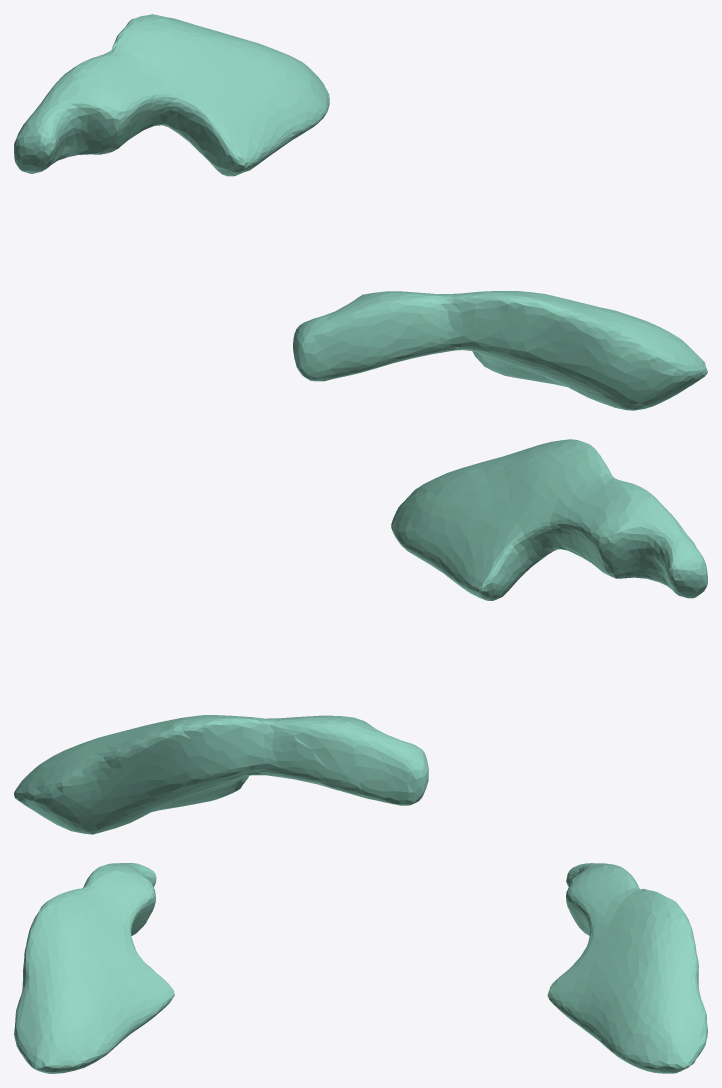
3 renders of one model, top to bottom at view 1: azimuth 30°, elevation 25°; view 2: azimuth 150°, elevation 25°; view 3: azimuth 270°, elevation 25°, orthographic. The views are drawn at different scales.
Parts seen in each view (by area): view 1: 631.obj; view 2: 631.obj; view 3: 631.obj.
Boxes of the visible parts, x1,y1,x2,y2 form: 631.obj: (14, 14, 707, 410); 631.obj: (14, 439, 707, 834); 631.obj: (14, 863, 707, 1073).
Size of the model in its own units: 3470 by 1297 by 7114.
